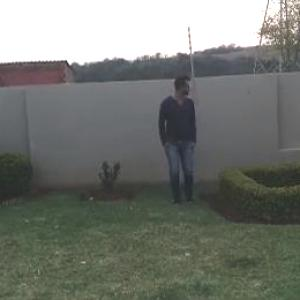follow: (154, 69, 199, 215)
